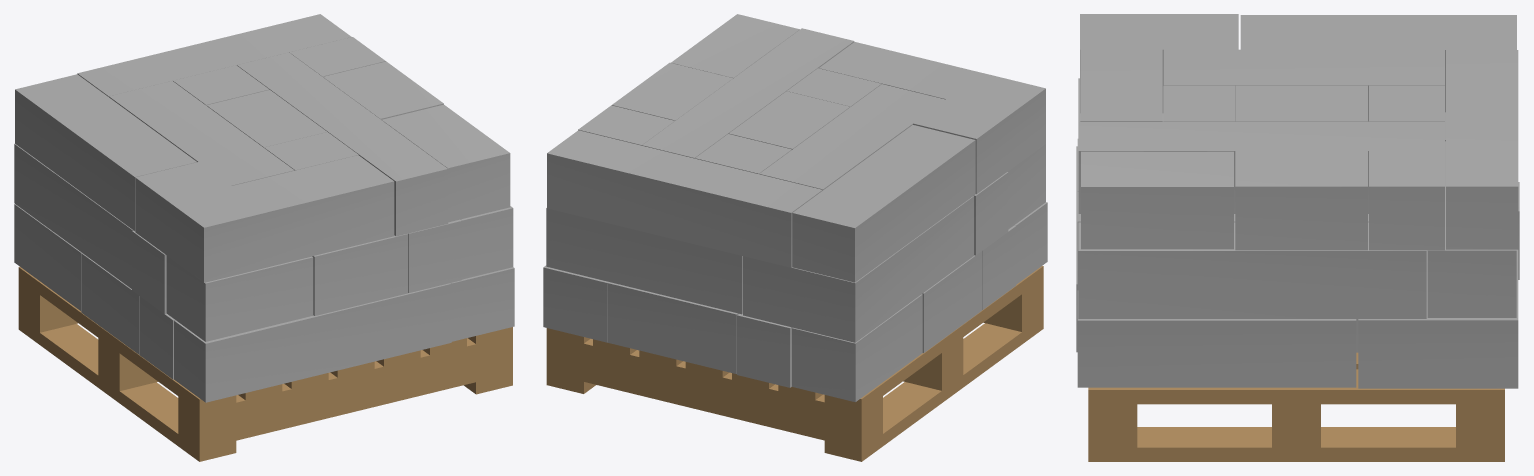
File: concrete-blocks-on-wooden-pallets.glb
3 views of the same model, side by side, from view 1: azimuth 30°, elevation 25°; view 2: azimuth 150°, elevation 25°; view 3: azimuth 270°, elevation 25° (orthographic). The views are drawn at different scales.
Parts seen in each view (by area): view 1: Concrete Blocks.002, Concrete Blocks, Concrete Blocks.001, Pallet; view 2: Concrete Blocks.002, Concrete Blocks, Concrete Blocks.001, Pallet; view 3: Concrete Blocks.002, Concrete Blocks, Concrete Blocks.001, Pallet.
Part boxes in pixels (x1,y1,x2,y2): Concrete Blocks.002: [15, 14, 510, 282]; Concrete Blocks: [14, 204, 514, 402]; Concrete Blocks.001: [14, 143, 513, 341]; Pallet: [18, 267, 512, 461]; Concrete Blocks.002: [547, 14, 1045, 282]; Concrete Blocks: [543, 202, 1047, 402]; Concrete Blocks.001: [546, 144, 1045, 342]; Pallet: [546, 266, 1043, 461]; Concrete Blocks.002: [1078, 14, 1518, 250]; Concrete Blocks: [1076, 146, 1519, 388]; Concrete Blocks.001: [1077, 78, 1516, 318]; Pallet: [1088, 352, 1504, 461].
Bounding box in the file's own units: 3.4 × 2.45 × 3.62.
Materials: 2 (2 with a texture image).
